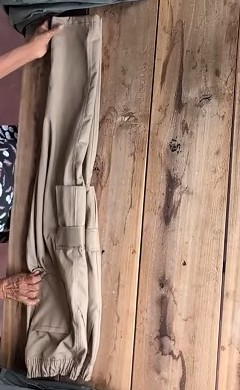TROUSER: (43, 6, 206, 390)
